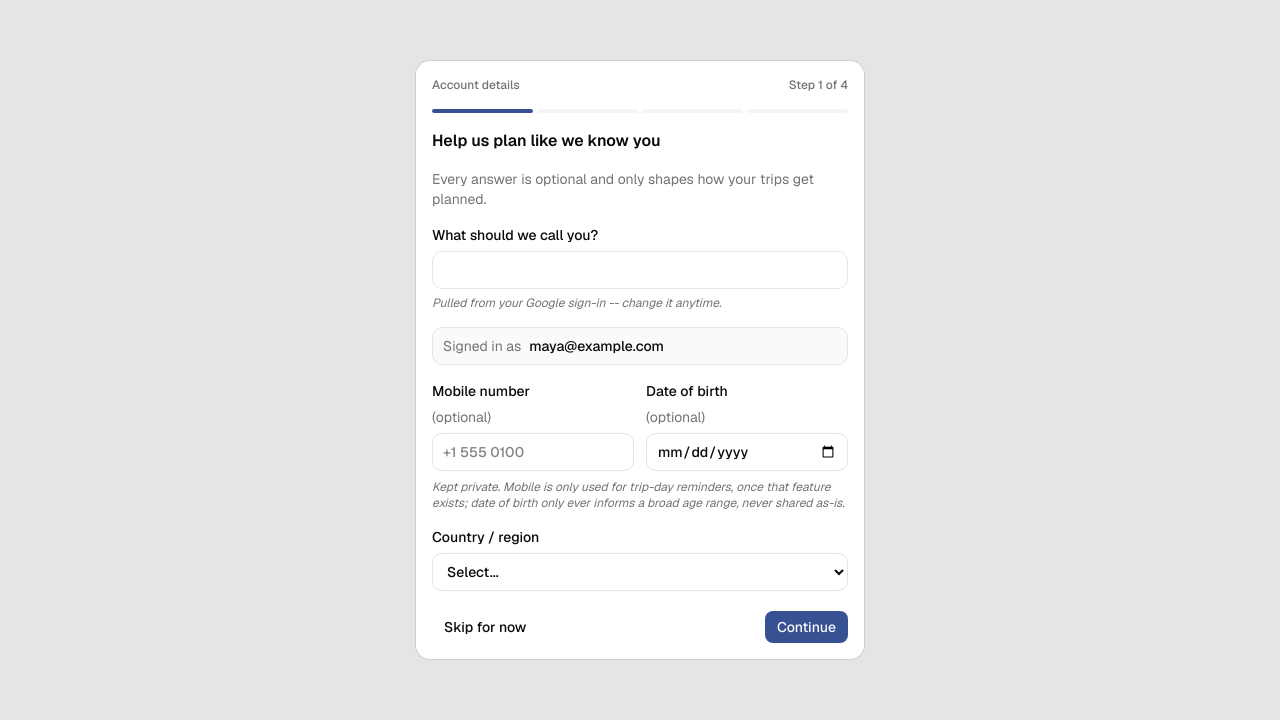
Test case: OnboardingFlow › blocks Continue on a future date of birth
Type "2999-01-01" into the date field labelled "Date of birth (optional)" at (747, 452), box [646, 433, 848, 471]
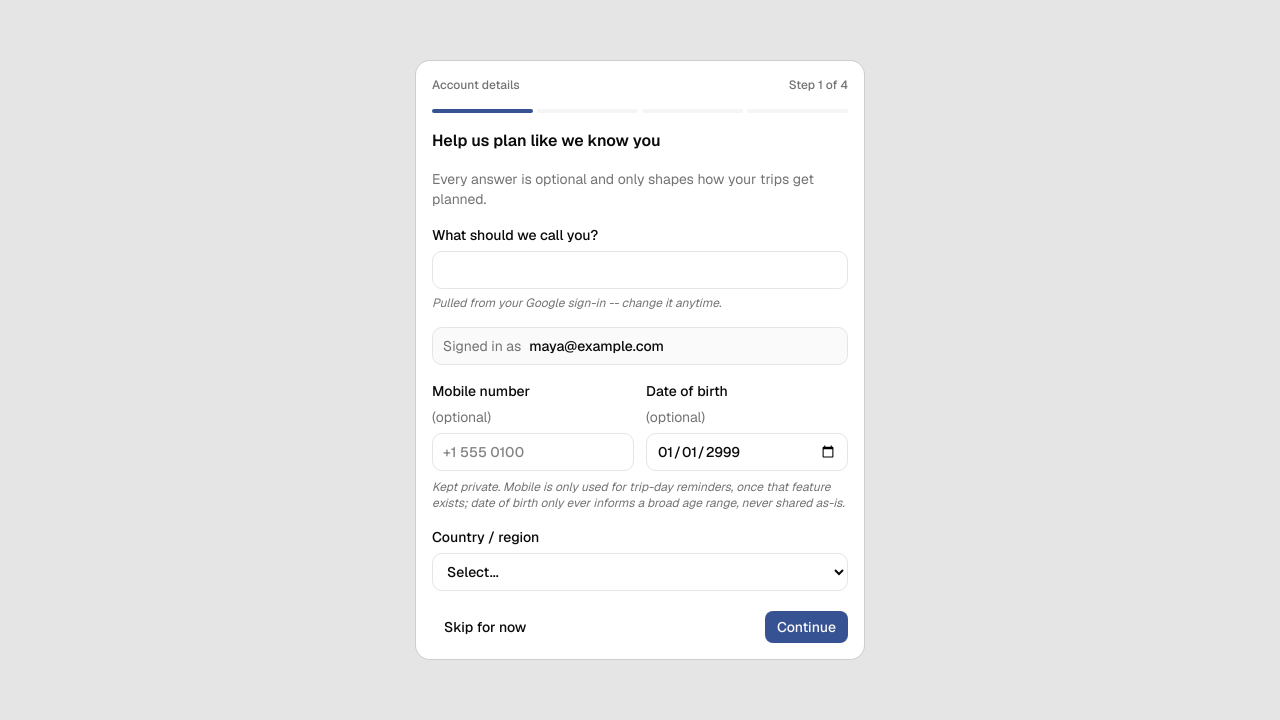
Click the button "Continue" at (806, 627), box [765, 611, 848, 643]
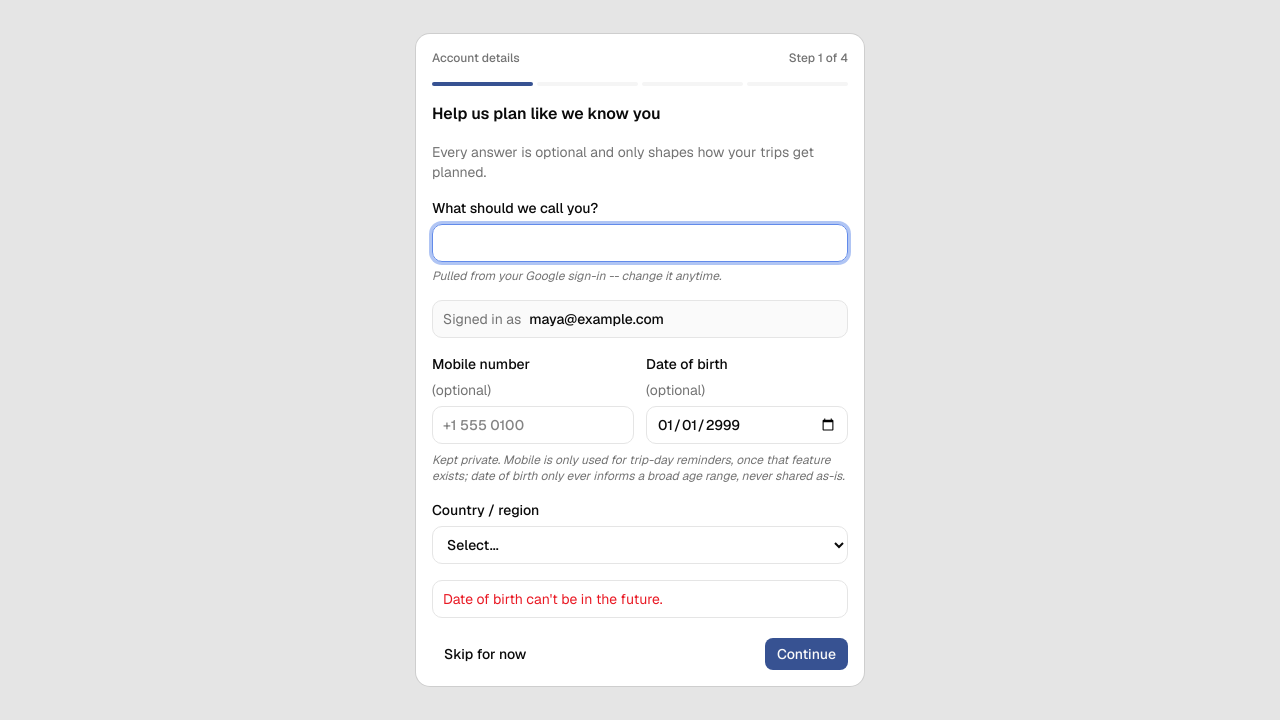
Expected: the text "Date of birth can't be in the future." is shown, [443, 590, 663, 608]
